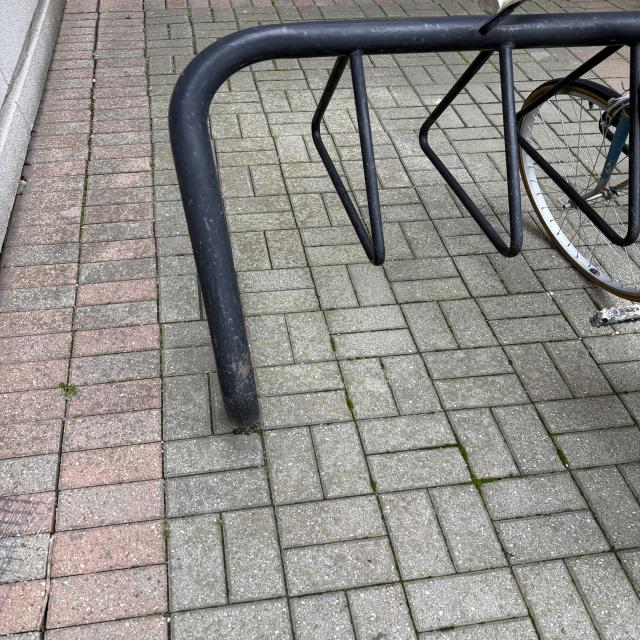Bicycle Rack: (162, 12, 640, 428)
